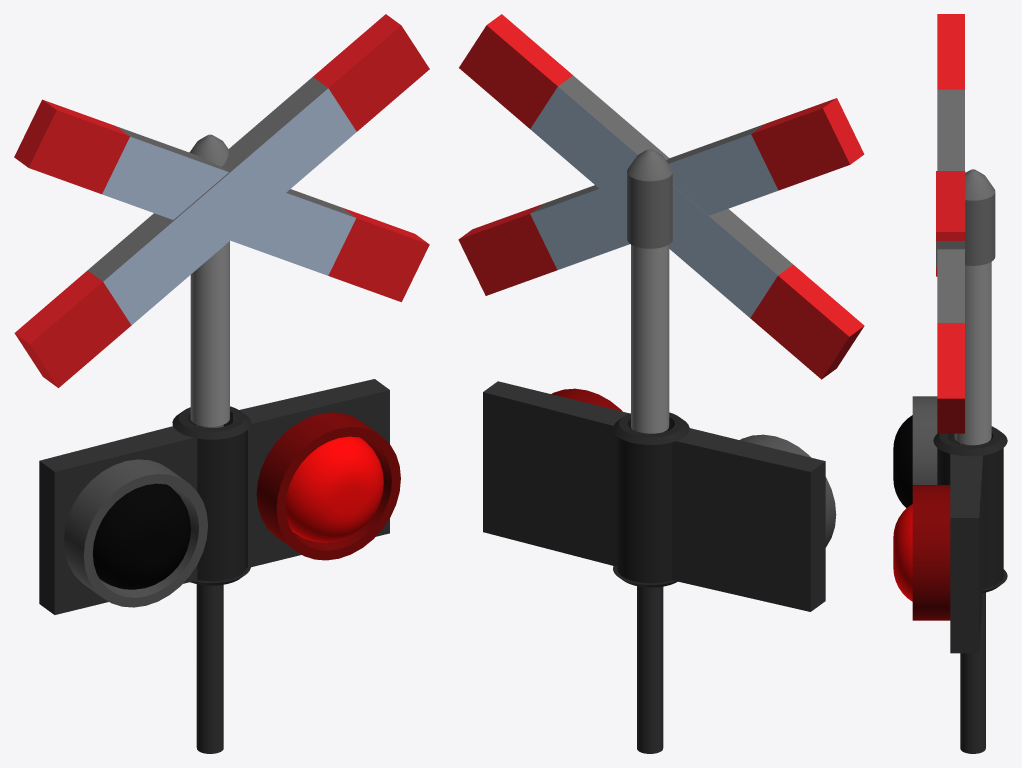
Rendered from TrainLight.fbx.
The picture shows the model from 3 angles, left to right: view 1: azimuth 30°, elevation 25°; view 2: azimuth 150°, elevation 25°; view 3: azimuth 270°, elevation 25°; orthographic projection. The views are drawn at different scales.
Visible parts, largest first — view 1: Light, LightBar; view 2: Light, LightBar; view 3: Light, LightBar.
Boxes of the visible parts, <box> form: Light: <box>14,14,429,614</box>; LightBar: <box>196,584,223,753</box>; Light: <box>458,14,864,611</box>; LightBar: <box>637,586,663,753</box>; Light: <box>893,14,1007,653</box>; LightBar: <box>960,592,985,753</box>.
Size of the model in its own units: 193 by 319 by 50.35.
